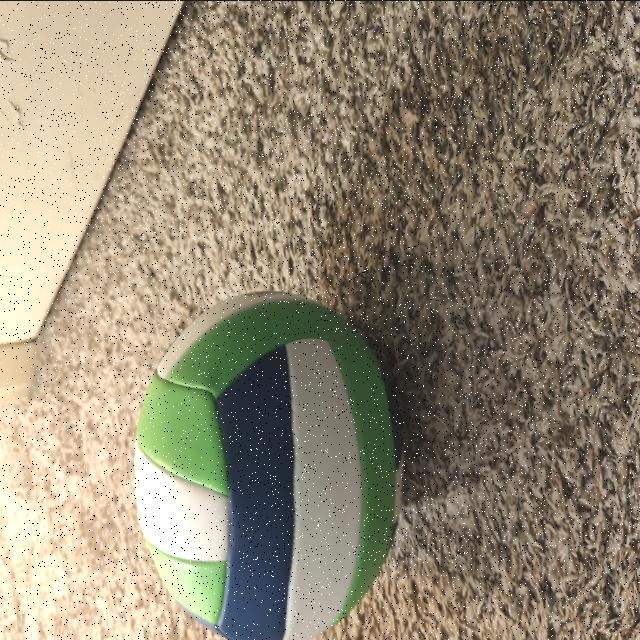ball: (143, 310, 404, 630)
